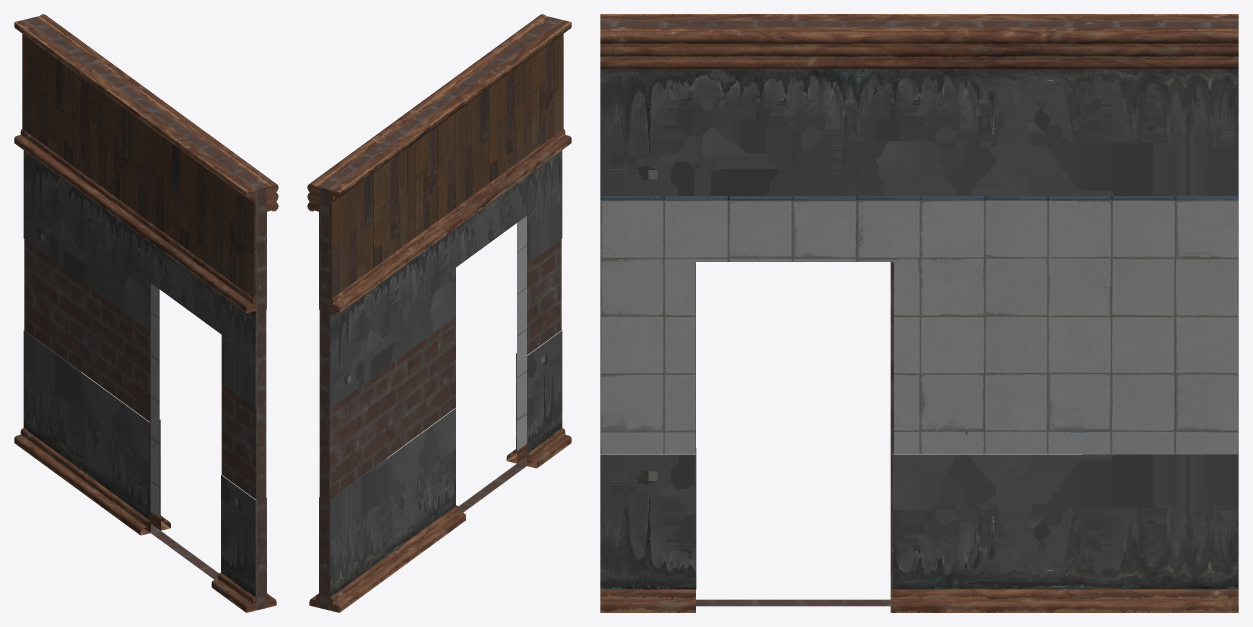
The model's file is Kit_Bricks_KitchenDoor.fbx.
3 renders of one model, left to right at view 1: azimuth 30°, elevation 25°; view 2: azimuth 150°, elevation 25°; view 3: azimuth 270°, elevation 25°, orthographic. The views are drawn at different scales.
Visible parts, largest first — view 1: Kit_Bricks_KitchenDoor; view 2: Kit_Bricks_KitchenDoor; view 3: Kit_Bricks_KitchenDoor.
Boxes of the visible parts, x1=… form: Kit_Bricks_KitchenDoor: x1=14, y1=14, x2=278, y2=612; Kit_Bricks_KitchenDoor: x1=307, y1=14, x2=571, y2=612; Kit_Bricks_KitchenDoor: x1=600, y1=14, x2=1238, y2=612.
Size of the model in its own units: 12.68 by 158 by 157.
